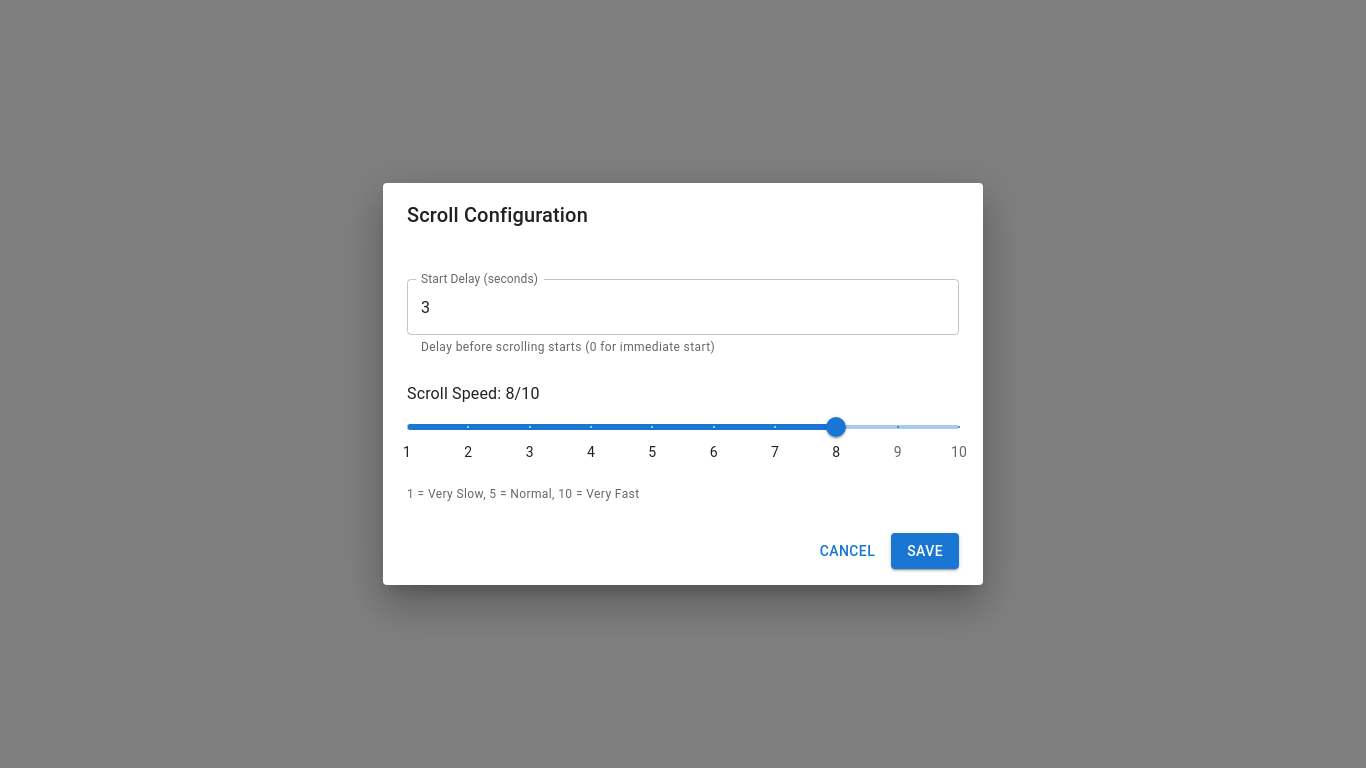
Test: ConfigModal › Form Interactions › should update speed when slider changes
Set the slider to "3" at (836, 426), box [826, 416, 846, 436]
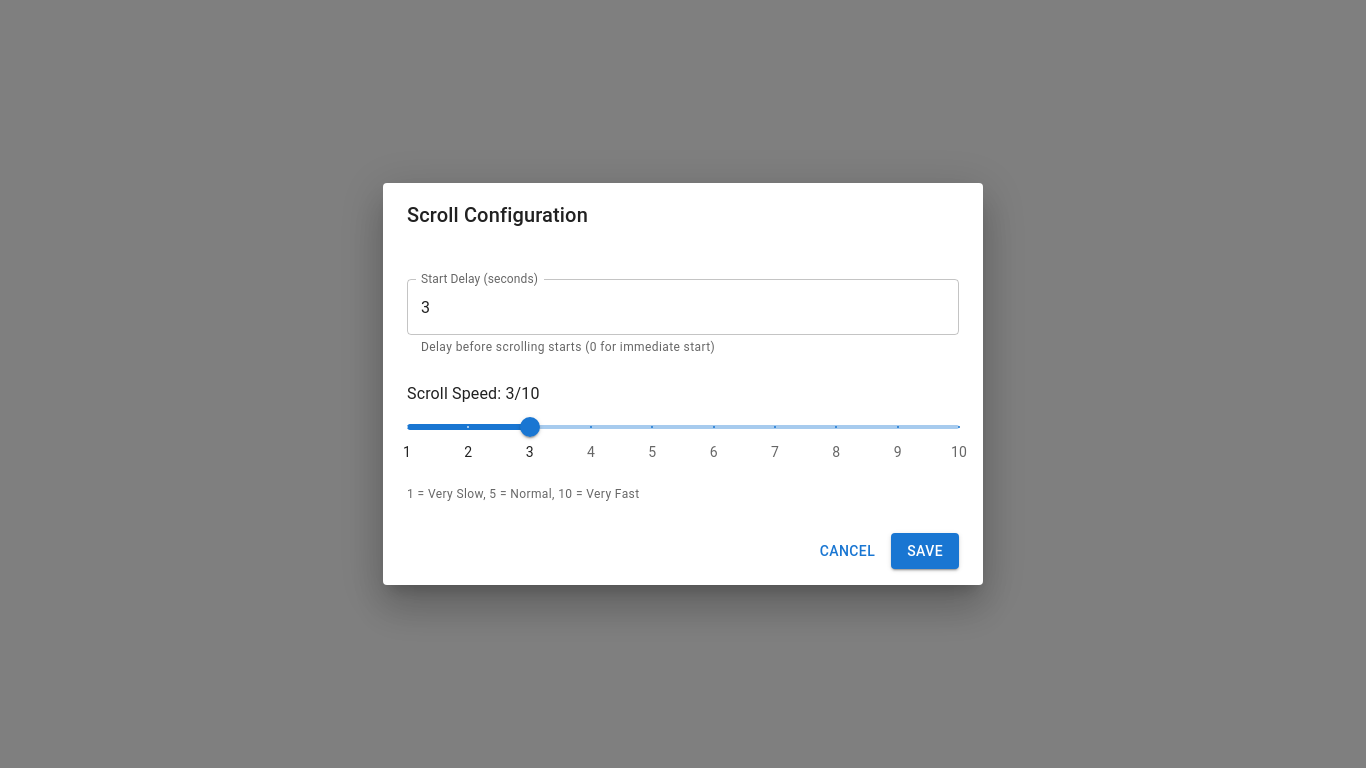
Expected: the text "Scroll Speed: 3/10" is shown, [407, 384, 540, 403]
